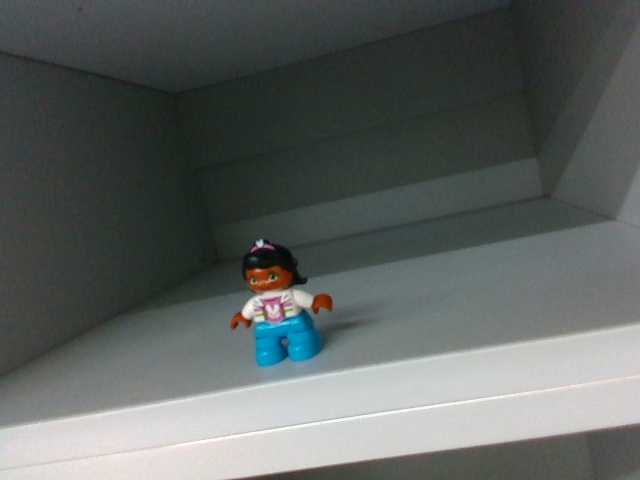people: (223, 238, 336, 374)
